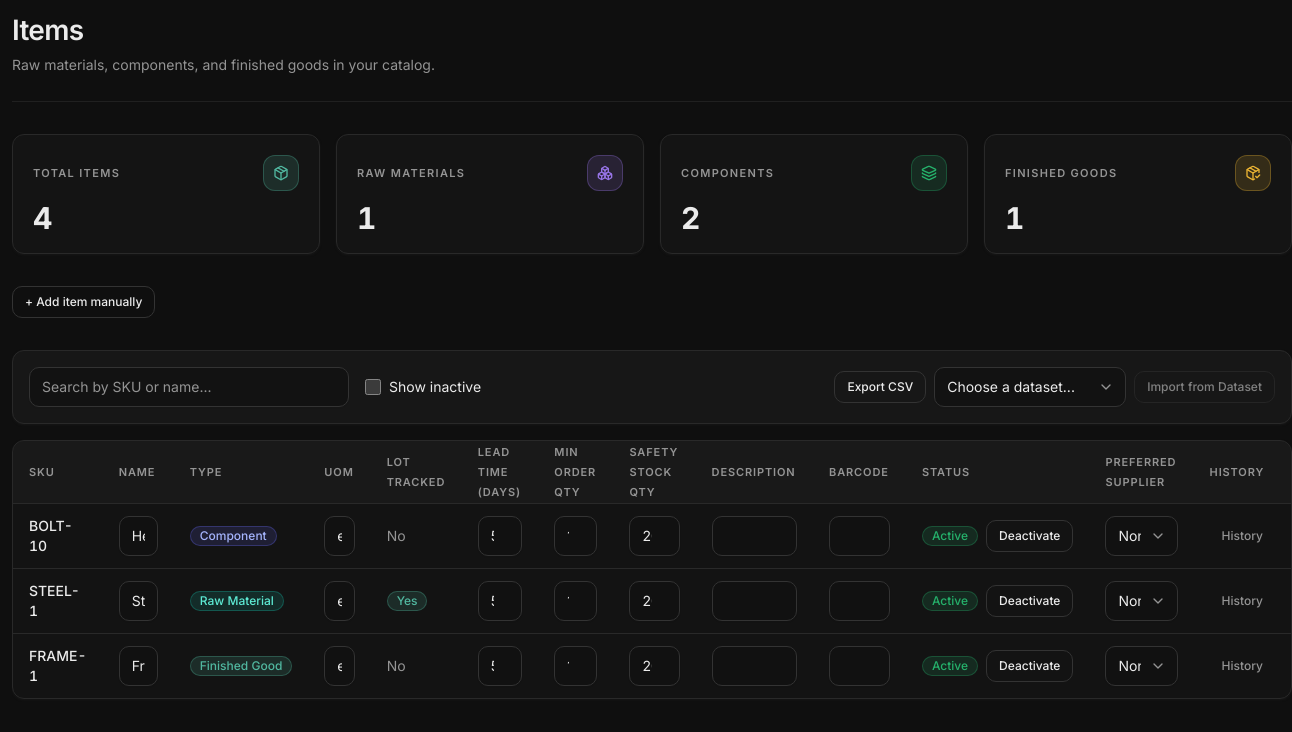
Test: Items › filters by SKU or name and shows a no-match state
Check: the text "BOLT-10" is shown, box [13, 503, 103, 568]
In the field with placeholder "Search by SKU or name...": [189, 387] box [29, 367, 349, 407], type "steel"
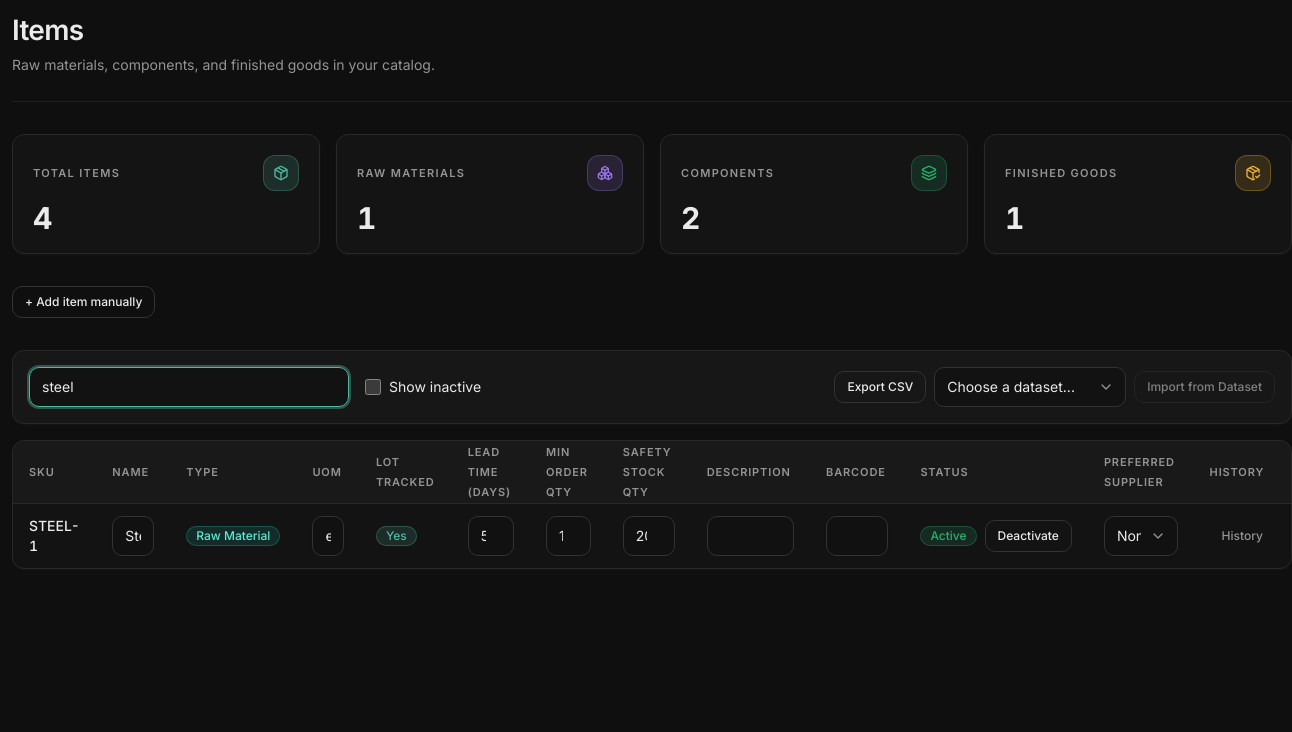
Check: the text "STEEL-1" is shown, box [13, 503, 96, 568]
Check: the text "BOLT-10" is gone
Replace the text in the field with placeholder "Search by SKU or name..." next to "Show inactive" with "zzz": [189, 387] box [29, 367, 349, 407]
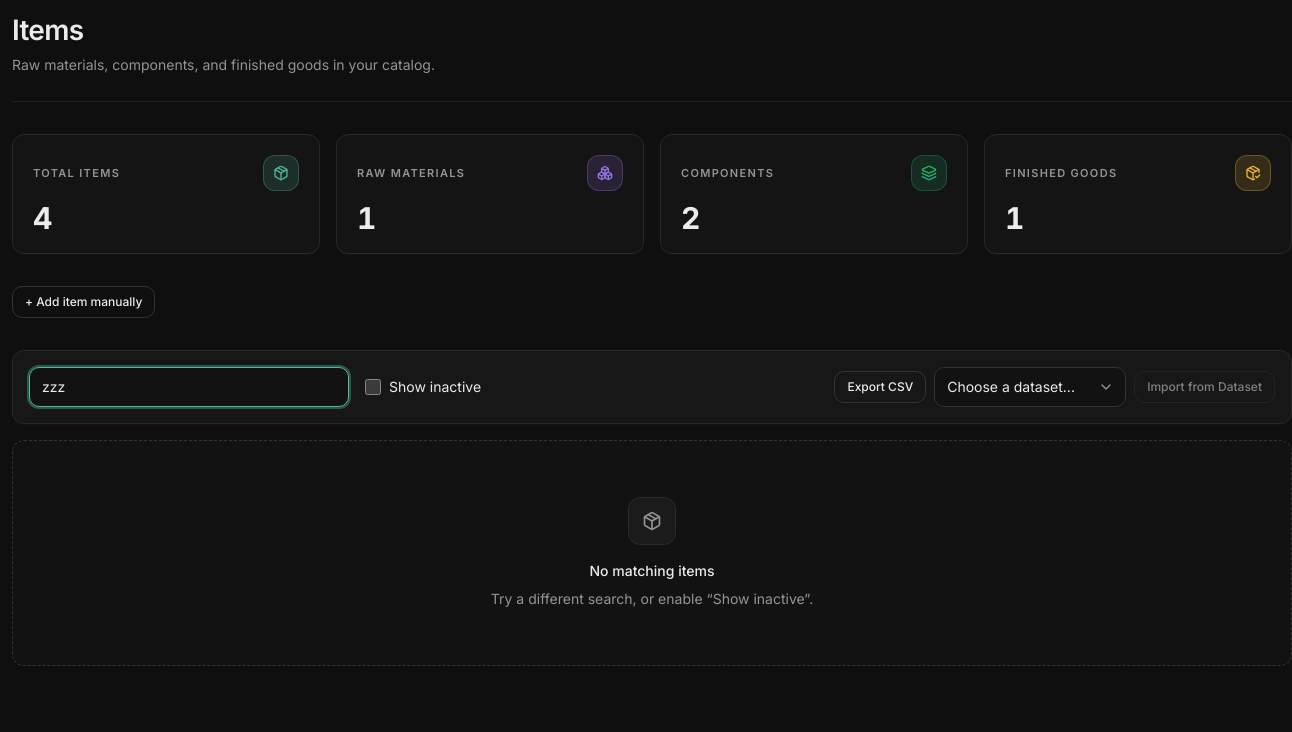
Check: the text "No matching items" is shown, box [590, 561, 714, 581]
